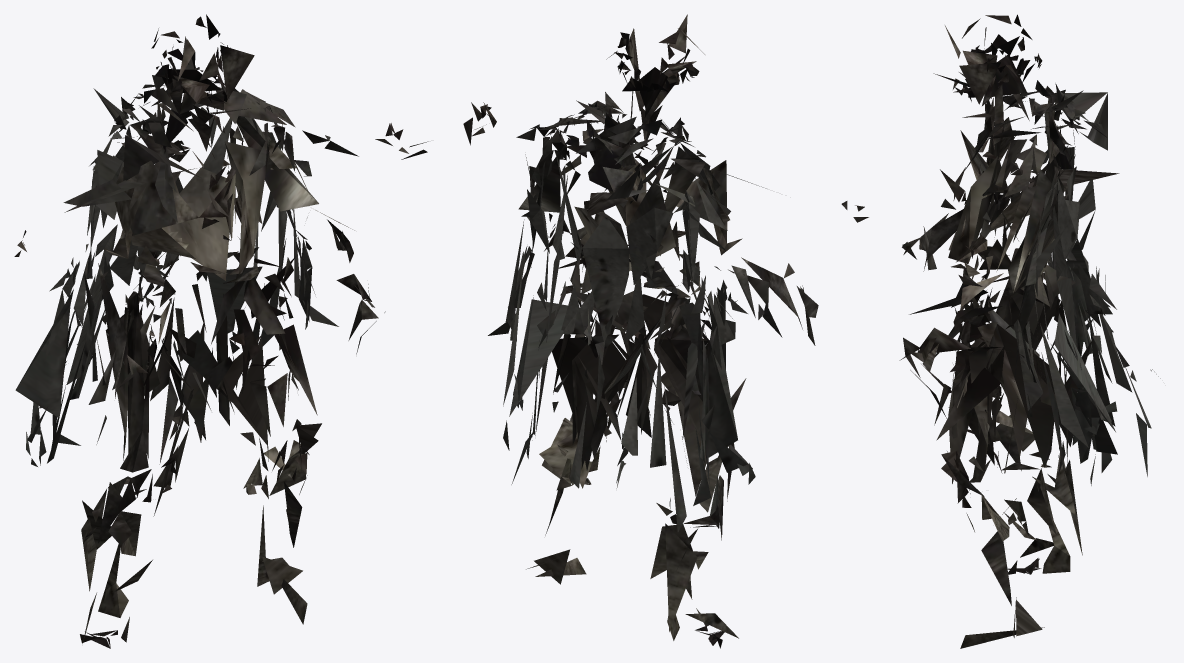
Rendered from hooded_male_far.glb.
3 renders of one model, left to right at view 1: azimuth 30°, elevation 25°; view 2: azimuth 150°, elevation 25°; view 3: azimuth 270°, elevation 25°, orthographic. The views are drawn at different scales.
Visible parts, largest first — view 1: hooded_male.002; view 2: hooded_male.002; view 3: hooded_male.002.
Part boxes in pixels (x1=…): hooded_male.002: x1=14, y1=14, x2=428, y2=648; hooded_male.002: x1=463, y1=14, x2=868, y2=648; hooded_male.002: x1=899, y1=14, x2=1160, y2=648.
Bounding box in the file's own units: 1.26 × 1.75 × 0.735.
Materials: 1 (1 with a texture image).
